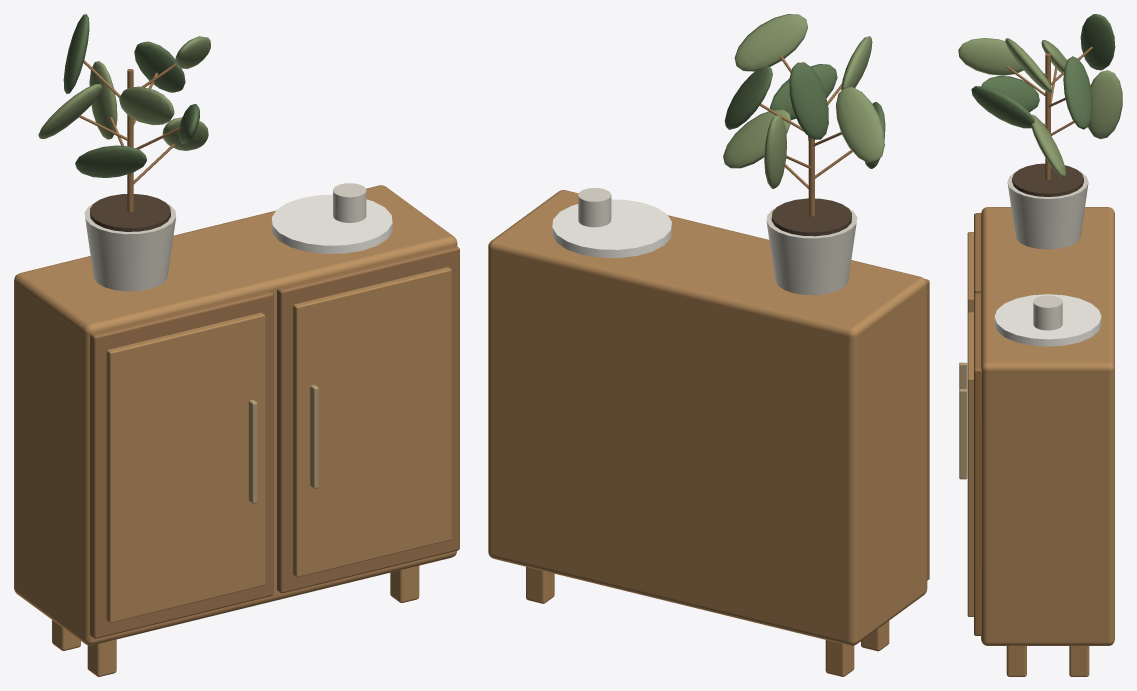
3 views of the same model, side by side, from view 1: azimuth 30°, elevation 25°; view 2: azimuth 150°, elevation 25°; view 3: azimuth 270°, elevation 25° (orthographic). The views are drawn at different scales.
Parts seen in each view (by area): view 1: Oak door panel (×2), Carcass, Recessed door (×2), Leaf (×8), Ceramic tray, Matte ceramic planter, Pot soil, Brass handle (×2), Tapered leg (×2), Espresso cup; view 2: Carcass, Leaf (×8), Ceramic tray, Matte ceramic planter, Pot soil, Tapered leg (×2), Espresso cup, Recessed door; view 3: Carcass, Leaf (×9), Matte ceramic planter, Ceramic tray, Recessed door (×2), Oak door panel (×2), Pot soil, Tapered leg (×2), Espresso cup, Brass handle, Stem.
Boxes of the visible parts, bbox=[...] form: Oak door panel (×2): bbox=[106, 267, 451, 622]; Carcass: bbox=[14, 185, 457, 645]; Recessed door (×2): bbox=[90, 245, 459, 638]; Leaf (×8): bbox=[38, 14, 210, 177]; Ceramic tray: bbox=[271, 194, 392, 253]; Matte ceramic planter: bbox=[84, 202, 176, 291]; Pot soil: bbox=[90, 194, 170, 231]; Brass handle (×2): bbox=[248, 384, 318, 503]; Tapered leg (×2): bbox=[87, 566, 419, 676]; Espresso cup: bbox=[333, 183, 366, 222]; Carcass: bbox=[488, 190, 927, 645]; Leaf (×8): bbox=[723, 14, 884, 188]; Ceramic tray: bbox=[552, 199, 671, 257]; Matte ceramic planter: bbox=[766, 208, 857, 295]; Pot soil: bbox=[771, 198, 851, 236]; Tapered leg (×2): bbox=[526, 567, 854, 676]; Espresso cup: bbox=[578, 188, 611, 227]; Recessed door: bbox=[925, 279, 929, 580]; Carcass: bbox=[981, 207, 1114, 645]; Leaf (×9): bbox=[958, 14, 1122, 177]; Matte ceramic planter: bbox=[1007, 171, 1088, 249]; Ceramic tray: bbox=[994, 294, 1101, 346]; Recessed door (×2): bbox=[974, 213, 981, 635]; Oak door panel (×2): bbox=[967, 232, 973, 616]; Pot soil: bbox=[1012, 163, 1083, 196]; Tapered leg (×2): bbox=[1006, 646, 1089, 676]; Espresso cup: bbox=[1033, 295, 1062, 330]; Brass handle: bbox=[959, 389, 967, 479]; Stem: bbox=[1045, 53, 1050, 179].
Size of the model in its own units: 0.8504 by 1.34 by 0.3683.
